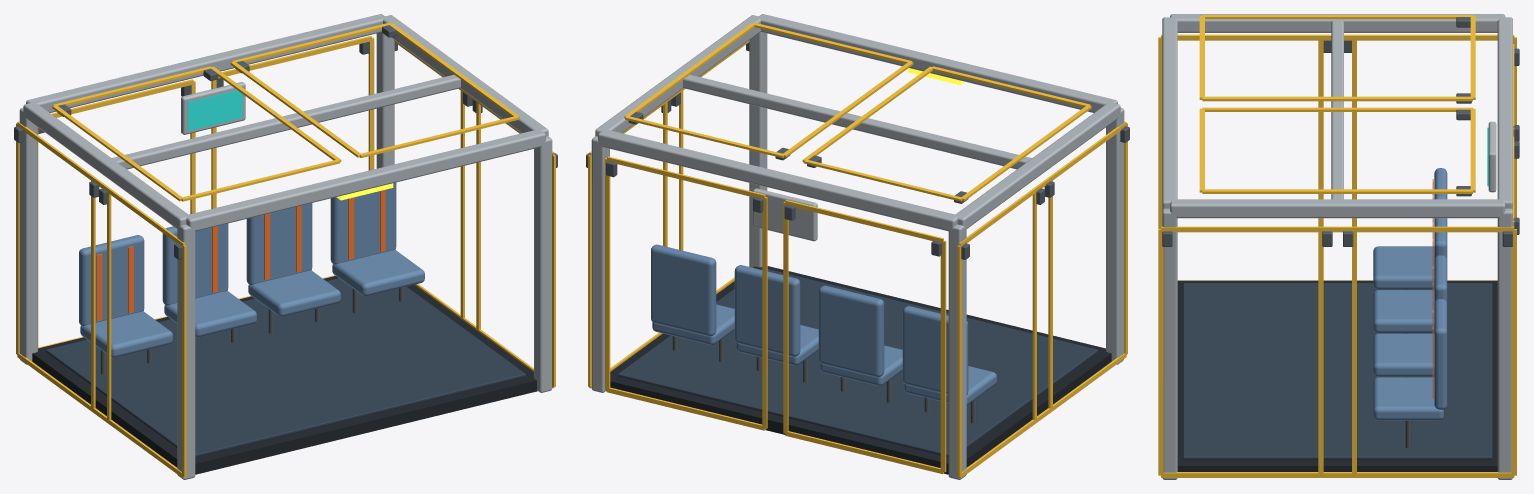
The model's file is storm-shelter.glb.
The picture shows the model from 3 angles, left to right: view 1: azimuth 30°, elevation 25°; view 2: azimuth 150°, elevation 25°; view 3: azimuth 270°, elevation 25°; orthographic projection. The views are drawn at different scales.
Parts seen in each view (by area): view 1: storm-shelter-foam, storm-shelter-aluminium, storm-shelter-dark-polymer, seat_3-cargo-bag-blue, seat_4-cargo-bag-blue, seat_1-cargo-bag-blue, seat_2-cargo-bag-blue, outline_left_2-hazard-yellow, outline_roof_2-hazard-yellow, outline_roof_1-hazard-yellow, outline_left_1-hazard-yellow, outline_right_2-hazard-yellow (+8 smaller); view 2: storm-shelter-aluminium, storm-shelter-foam, storm-shelter-dark-polymer, seat_2-cargo-bag-blue, seat_4-cargo-bag-blue, seat_3-cargo-bag-blue, outline_back_1-hazard-yellow, outline_back_2-hazard-yellow, seat_1-cargo-bag-blue, outline_roof_2-hazard-yellow, outline_roof_1-hazard-yellow, outline_left_1-hazard-yellow (+4 smaller); view 3: storm-shelter-foam, storm-shelter-aluminium, storm-shelter-dark-polymer, outline_right_1-hazard-yellow, outline_right_2-hazard-yellow, seat_4-cargo-bag-blue, outline_roof_1-hazard-yellow, outline_roof_2-hazard-yellow, seat_3-cargo-bag-blue, seat_2-cargo-bag-blue, seat_1-cargo-bag-blue, outline_left_2-hazard-yellow (+2 smaller).
Boxes of the visible parts, x1,y1,x2,y2 form: storm-shelter-foam: [45, 278, 526, 457]; storm-shelter-aluminium: [19, 14, 552, 479]; storm-shelter-dark-polymer: [32, 276, 537, 474]; seat_3-cargo-bag-blue: [246, 203, 340, 316]; seat_4-cargo-bag-blue: [330, 182, 424, 296]; seat_1-cargo-bag-blue: [79, 235, 172, 357]; seat_2-cargo-bag-blue: [162, 223, 256, 337]; outline_left_2-hazard-yellow: [91, 177, 186, 478]; outline_roof_2-hazard-yellow: [230, 23, 519, 157]; outline_roof_1-hazard-yellow: [52, 66, 341, 201]; outline_left_1-hazard-yellow: [16, 121, 111, 421]; outline_right_2-hazard-yellow: [460, 89, 555, 388]; storm-shelter-aluminium: [591, 14, 1124, 479]; storm-shelter-foam: [617, 268, 1098, 457]; storm-shelter-dark-polymer: [606, 266, 1111, 474]; seat_2-cargo-bag-blue: [818, 285, 902, 385]; seat_4-cargo-bag-blue: [651, 244, 734, 345]; seat_3-cargo-bag-blue: [734, 265, 818, 365]; outline_back_1-hazard-yellow: [783, 200, 946, 474]; outline_back_2-hazard-yellow: [605, 156, 767, 430]; seat_1-cargo-bag-blue: [902, 306, 996, 405]; outline_roof_2-hazard-yellow: [624, 23, 913, 157]; outline_roof_1-hazard-yellow: [802, 66, 1091, 201]; outline_left_1-hazard-yellow: [957, 176, 1052, 478]; storm-shelter-foam: [1183, 283, 1492, 459]; storm-shelter-aluminium: [1162, 14, 1512, 479]; storm-shelter-dark-polymer: [1177, 280, 1497, 471]; outline_right_1-hazard-yellow: [1318, 226, 1516, 477]; outline_right_2-hazard-yellow: [1158, 226, 1356, 477]; seat_4-cargo-bag-blue: [1373, 299, 1447, 420]; outline_roof_1-hazard-yellow: [1199, 15, 1475, 101]; outline_roof_2-hazard-yellow: [1199, 107, 1475, 193]; seat_3-cargo-bag-blue: [1373, 255, 1447, 376]; seat_2-cargo-bag-blue: [1373, 218, 1447, 333]; seat_1-cargo-bag-blue: [1373, 168, 1447, 289]; outline_left_2-hazard-yellow: [1158, 34, 1356, 280].
Size of the model in its own units: 3.62 by 2.41 by 2.8.
